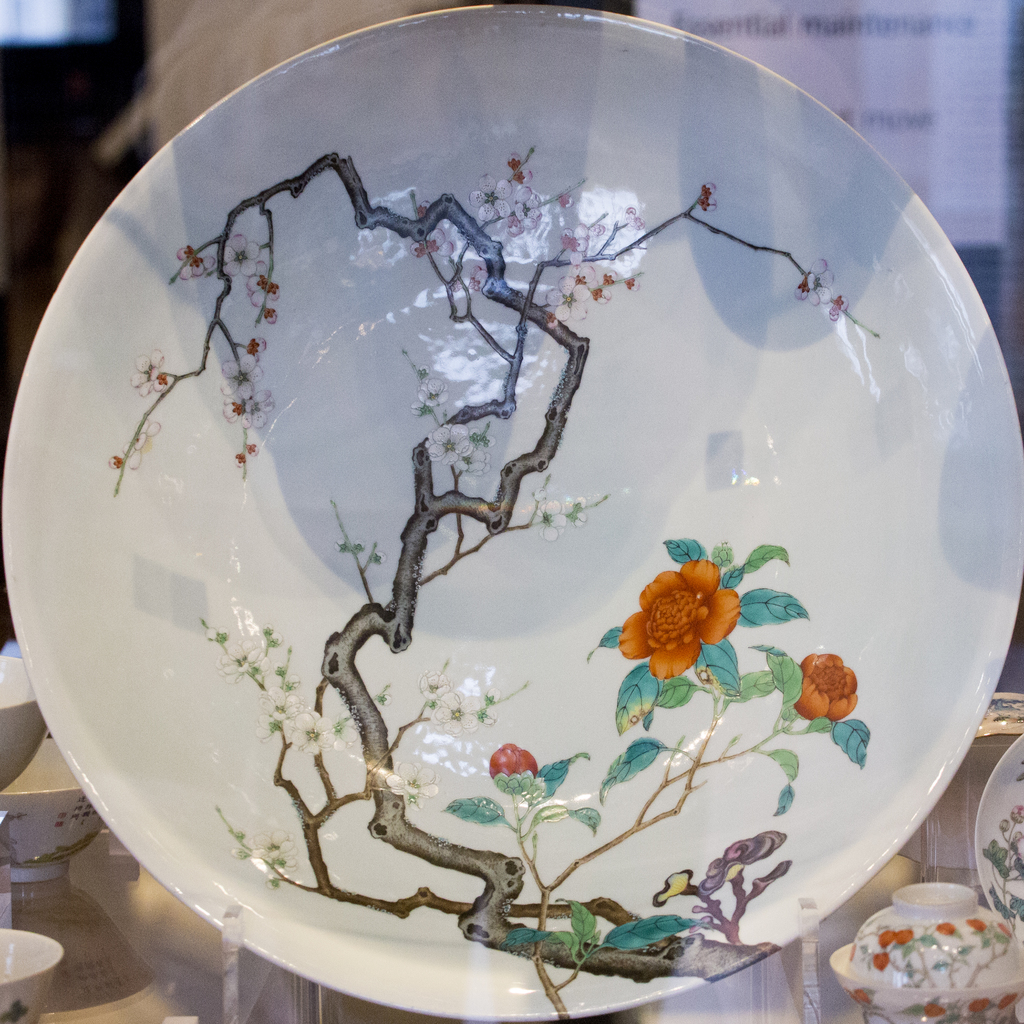plate: (0, 1, 1023, 1016)
